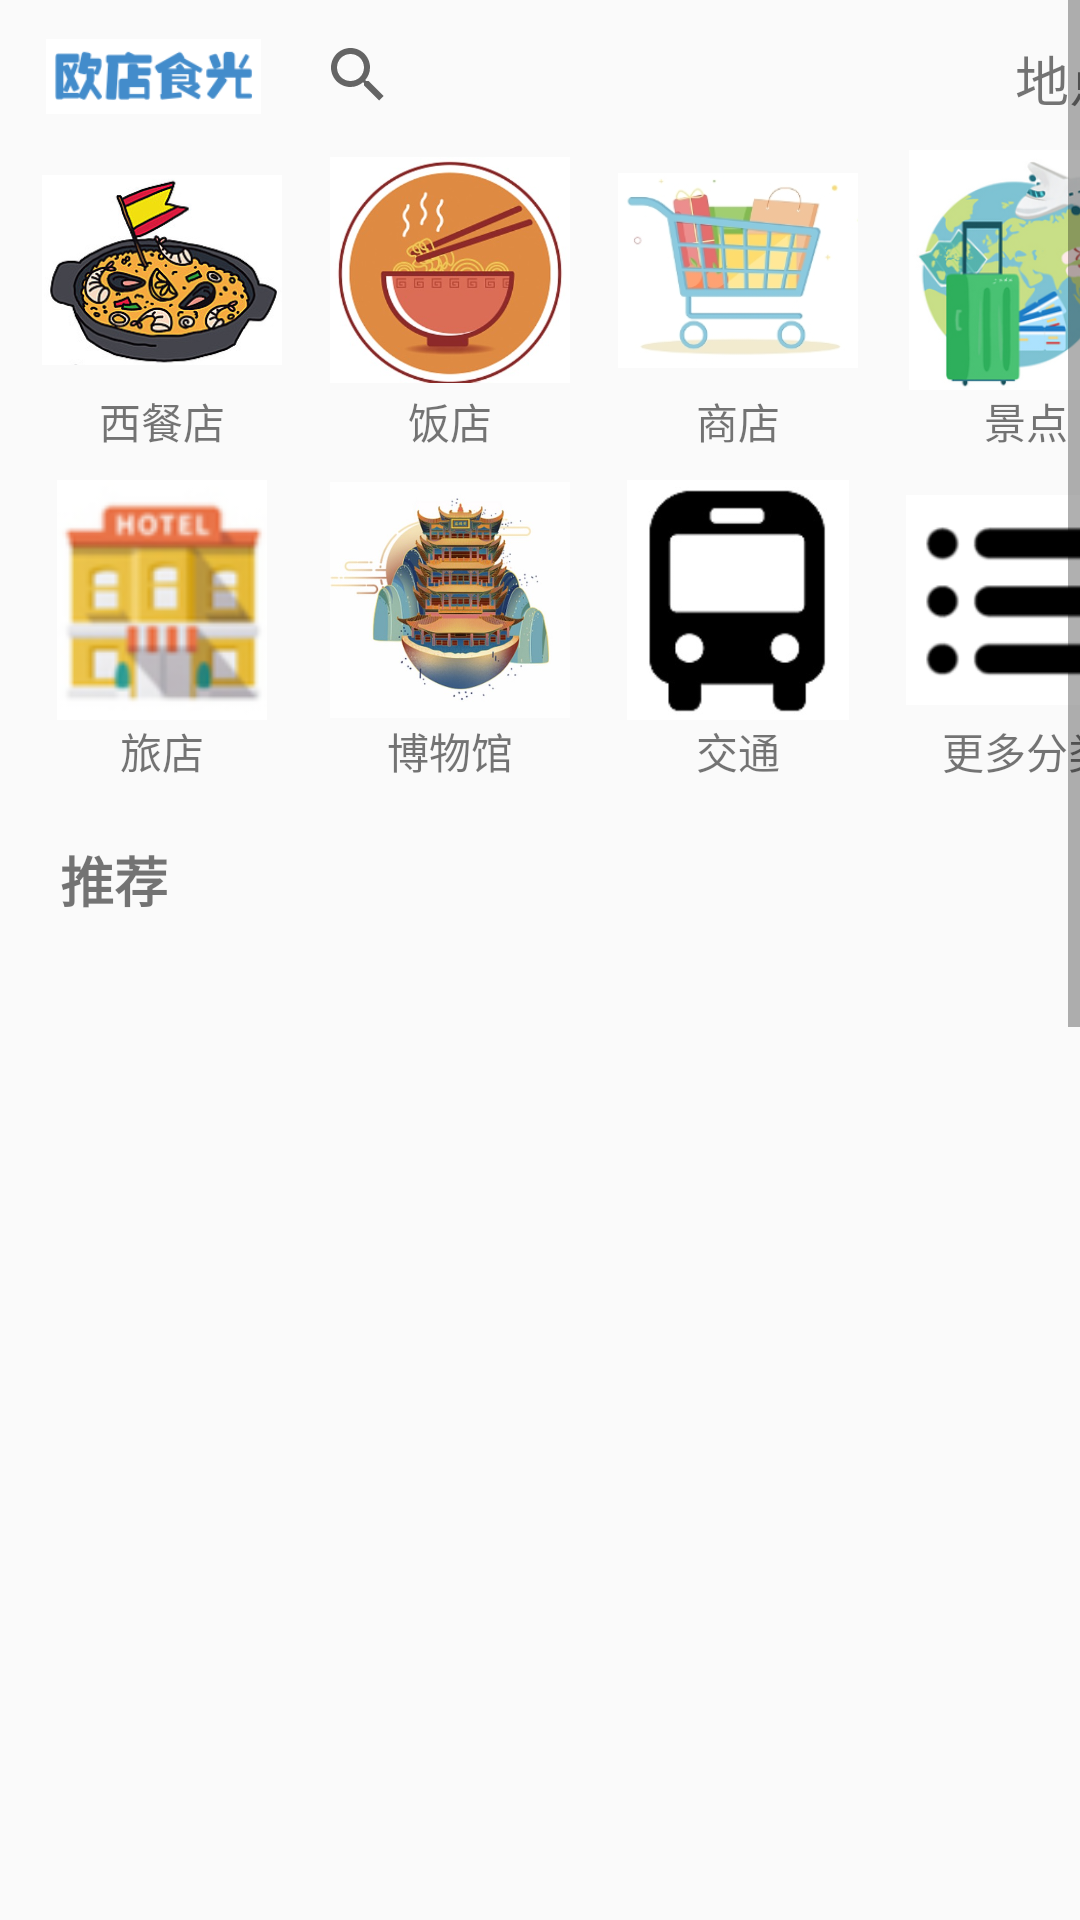

Icon click points for this 1080px x 1920px phone screenshot, format [x,y]:
food: [163,271]
